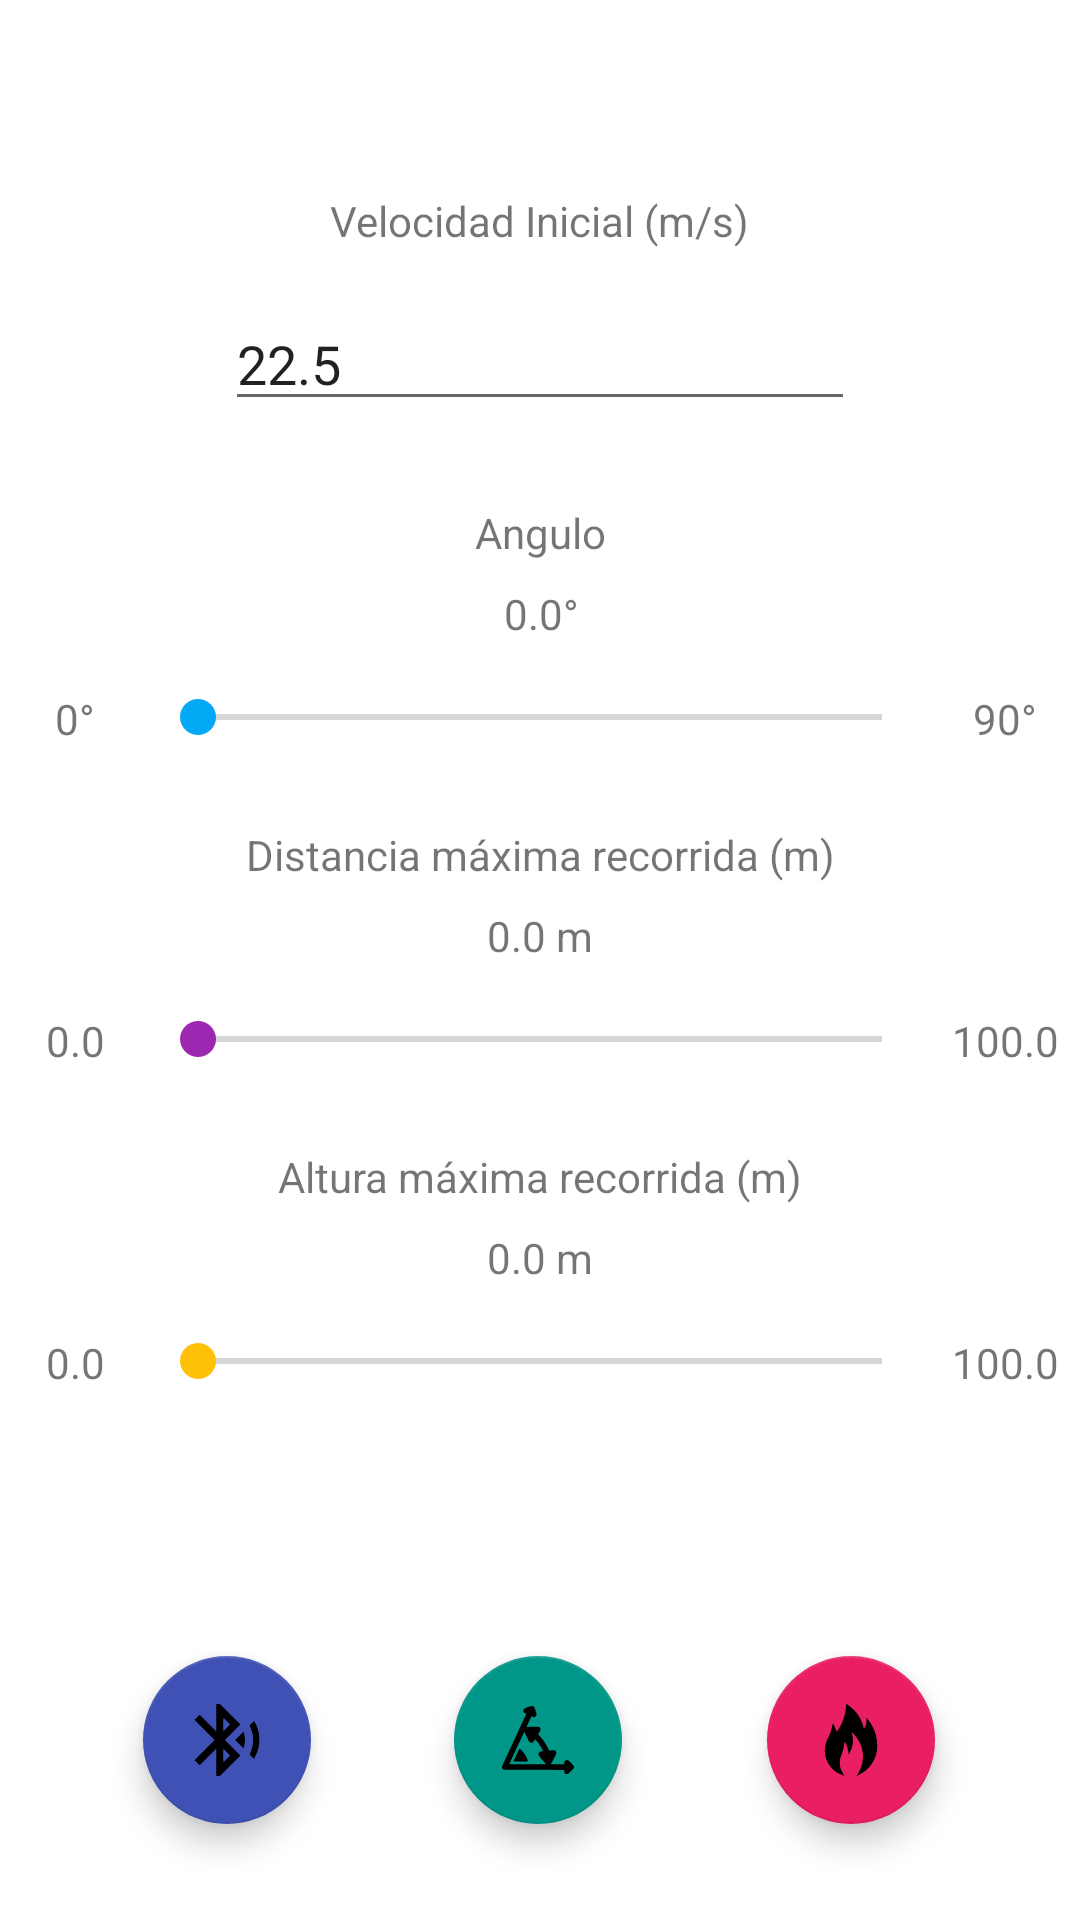

Where icons sit on this 1080×1920 app screen, as (x1, y1, x2, y2):
Disparar: (767, 1656, 935, 1824)
Enviar Angulo: (454, 1656, 622, 1824)
